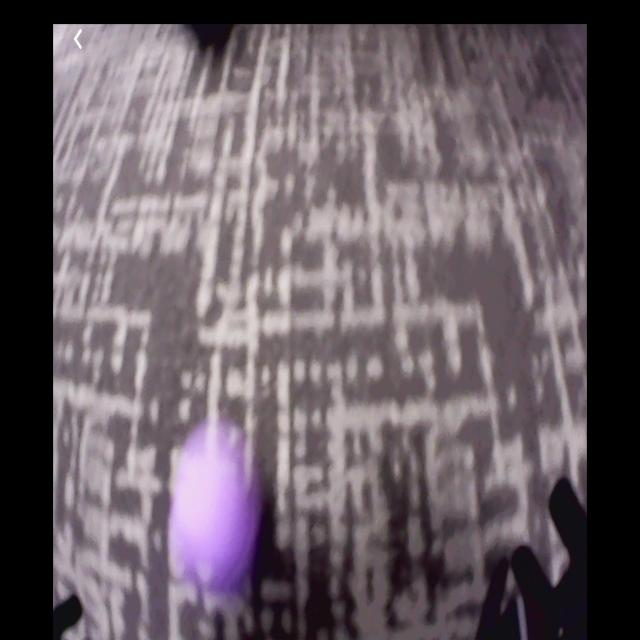ball: (180, 455, 252, 576)
